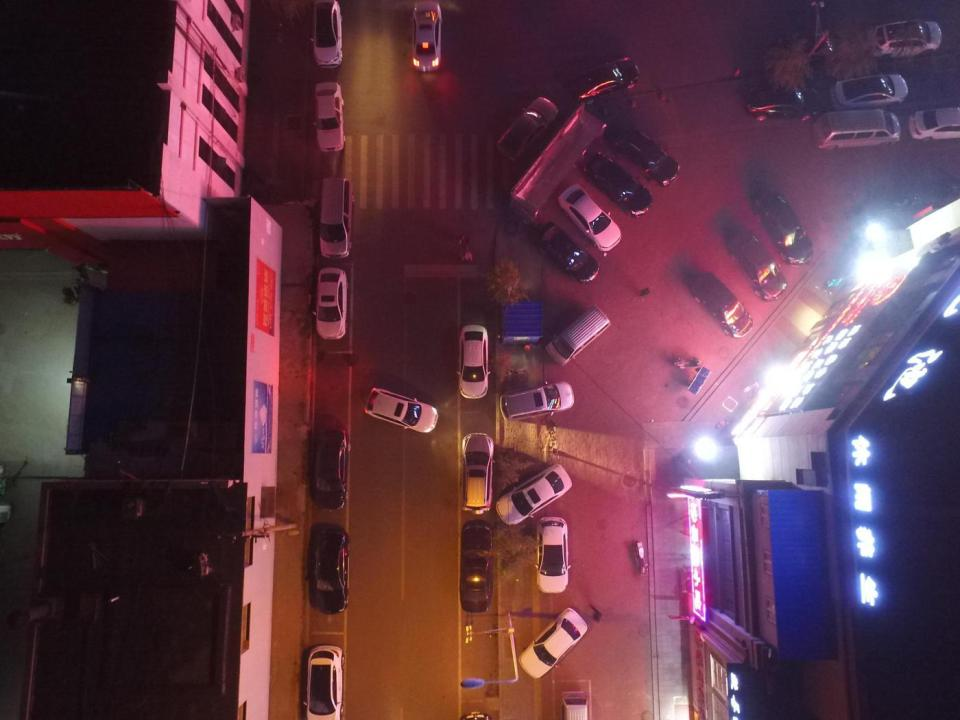car: (519, 607, 587, 679), (496, 464, 572, 525), (583, 152, 653, 217), (754, 193, 814, 265), (558, 184, 621, 251), (691, 272, 753, 338), (536, 221, 600, 284), (497, 96, 558, 162), (614, 126, 680, 187), (729, 231, 786, 300), (365, 387, 438, 432), (868, 19, 942, 62), (571, 58, 639, 104), (460, 520, 493, 612), (303, 646, 344, 720), (314, 429, 350, 510), (499, 381, 575, 419), (315, 530, 349, 614), (830, 74, 907, 110), (777, 33, 862, 65), (535, 516, 570, 593), (312, 268, 348, 340), (456, 324, 490, 399), (748, 86, 820, 121), (410, 1, 442, 72), (313, 82, 345, 152), (310, 1, 343, 67), (908, 107, 960, 140)
van: (545, 304, 611, 368), (813, 108, 900, 151), (318, 177, 353, 258), (460, 432, 494, 514), (562, 691, 588, 720)
